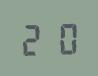two: (19, 21, 48, 56)
zero: (49, 19, 78, 54)
